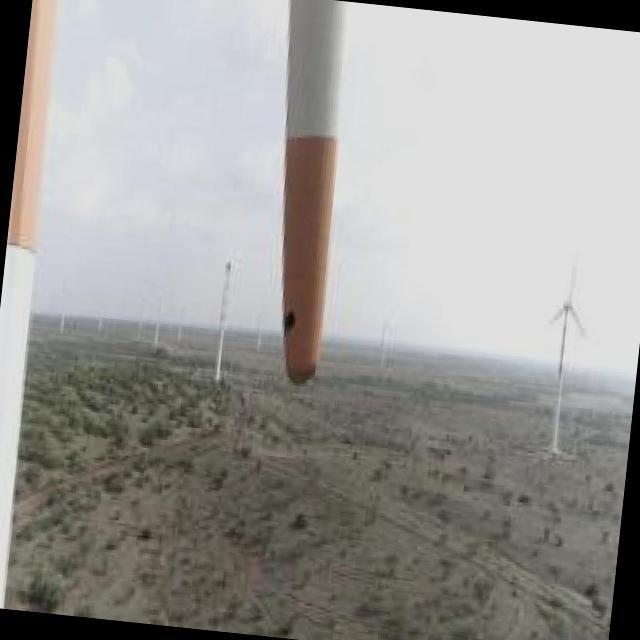Dirt: (287, 356, 319, 386)
Oil LEAKAGE: (280, 308, 302, 333)
